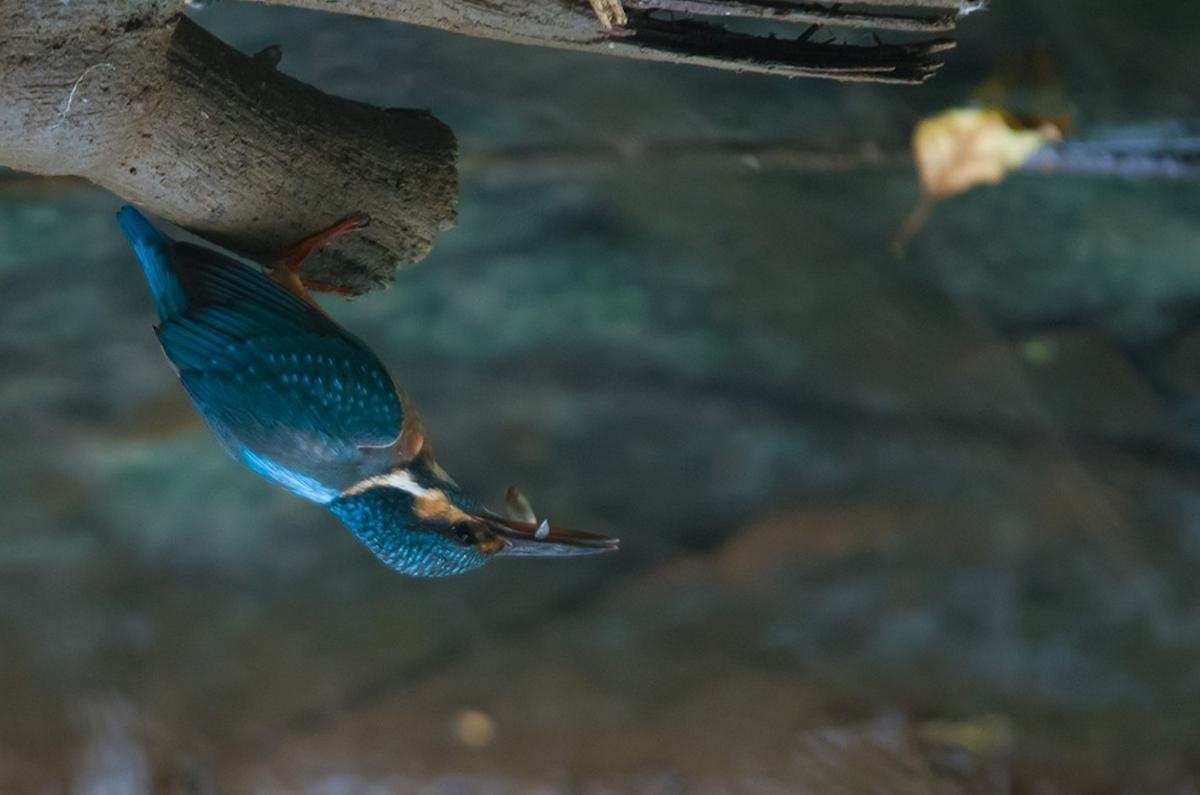kingfisher: (98, 207, 630, 604)
